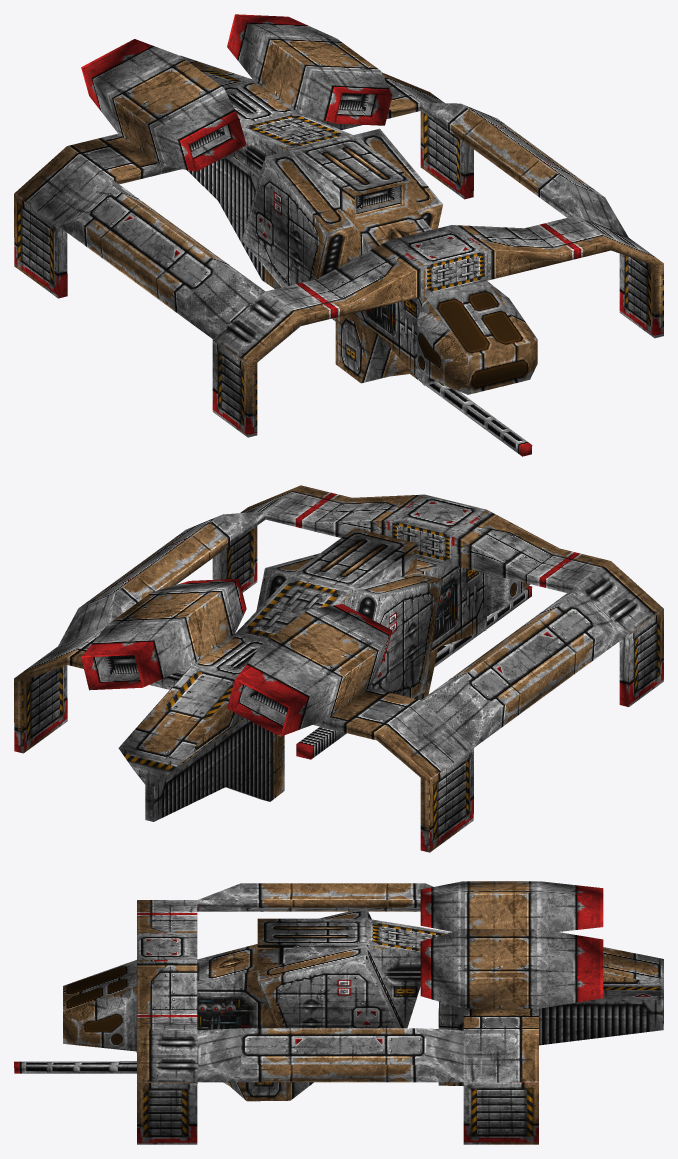
Rendered from scimitar.glb.
The picture shows the model from 3 angles, top to bottom: view 1: azimuth 30°, elevation 25°; view 2: azimuth 150°, elevation 25°; view 3: azimuth 270°, elevation 25°; orthographic projection. The views are drawn at different scales.
Visible parts, largest first — view 1: Scimitar; view 2: Scimitar; view 3: Scimitar.
Part boxes in pixels (<box>): Scimitar: <box>14,14,663,456</box>; Scimitar: <box>14,485,663,852</box>; Scimitar: <box>14,881,663,1144</box>.
Size of the model in its own units: 982 by 461 by 1533.
1 material, 1 textured.
